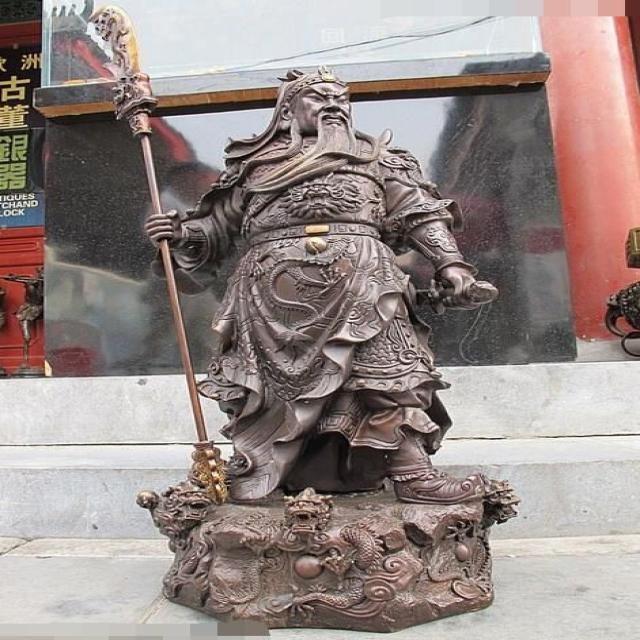Guan Yu: (140, 68, 486, 502)
